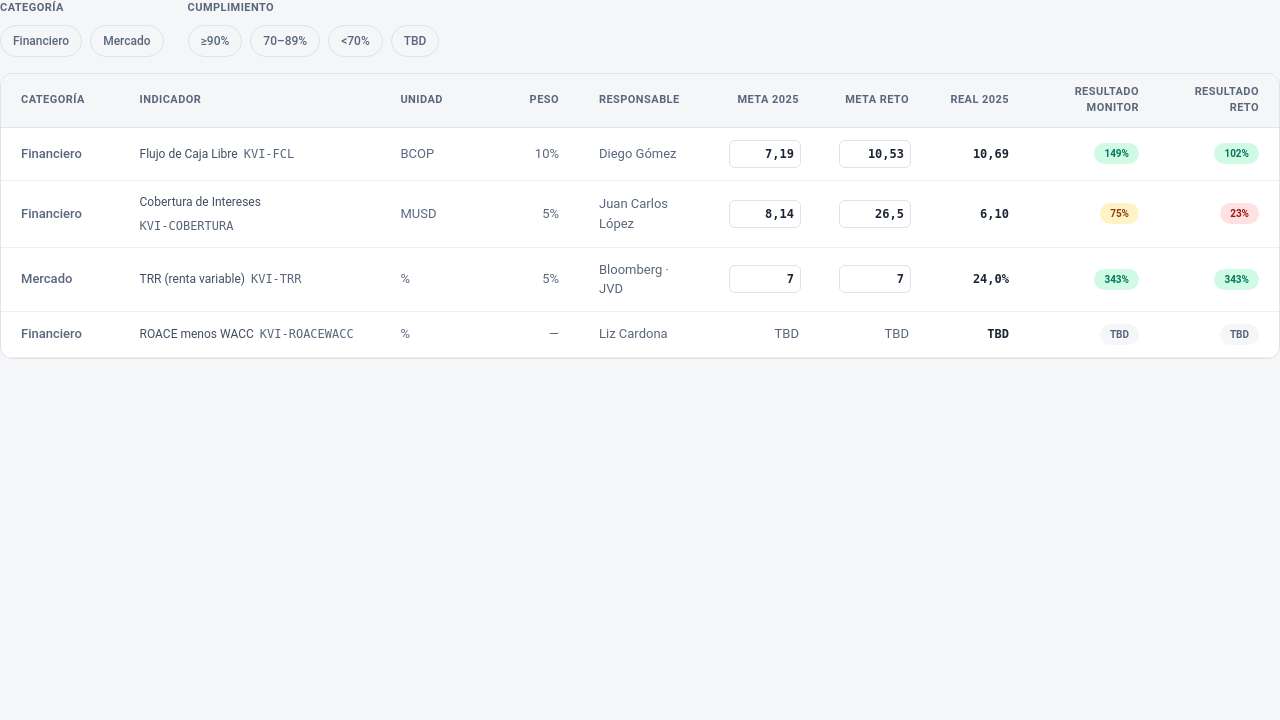
Test: KviTable › traceability › opens the OVL-11 modal with the row sources on a name click
The image size is (1280, 720).
What coordinates should you click on to do the following:
click the button with test id "kvi-table-indicator-trigger-kvi-fcl"
I would click on:
 (189, 154)
Its box is x1=140 y1=144 x2=238 y2=162.
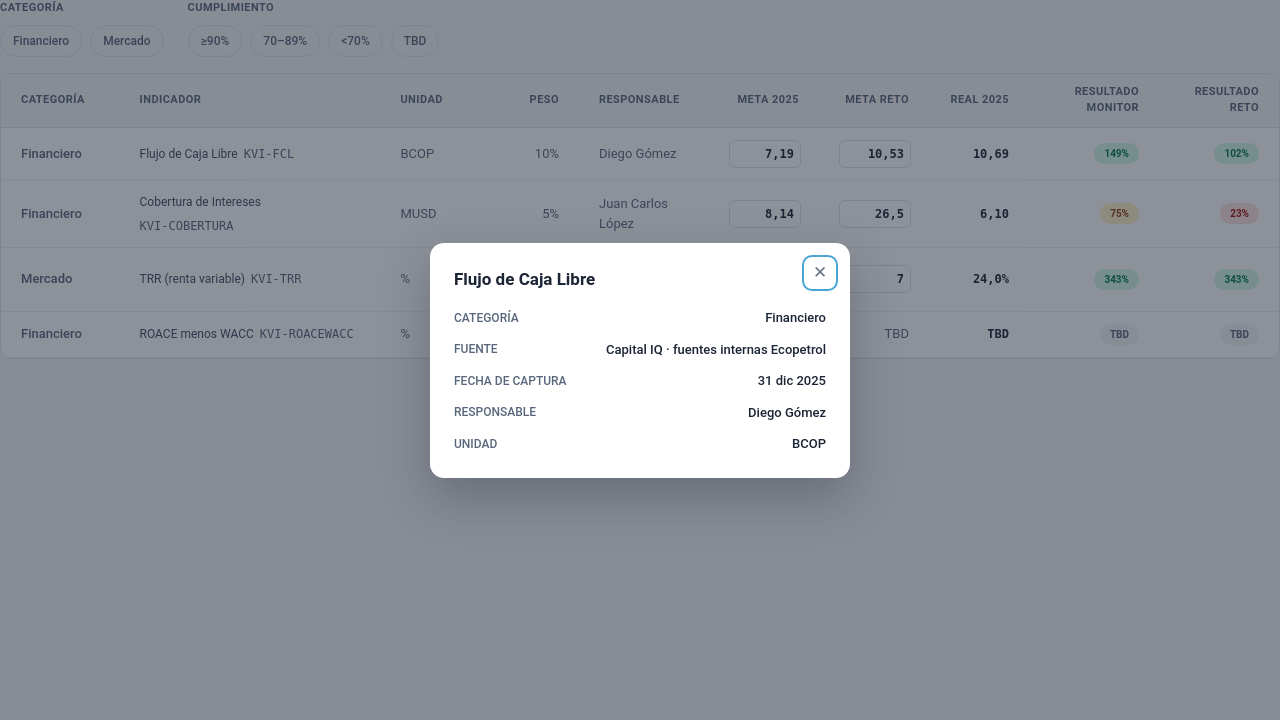
Check: the heading "Flujo de Caja Libre" is shown, box x1=454 y1=268 x2=595 y2=288
Check: the text "Capital IQ · fuentes internas Ecopetrol" is shown, box x1=606 y1=340 x2=826 y2=359
Check: the text "Diego Gómez" is shown, box x1=748 y1=402 x2=826 y2=422
